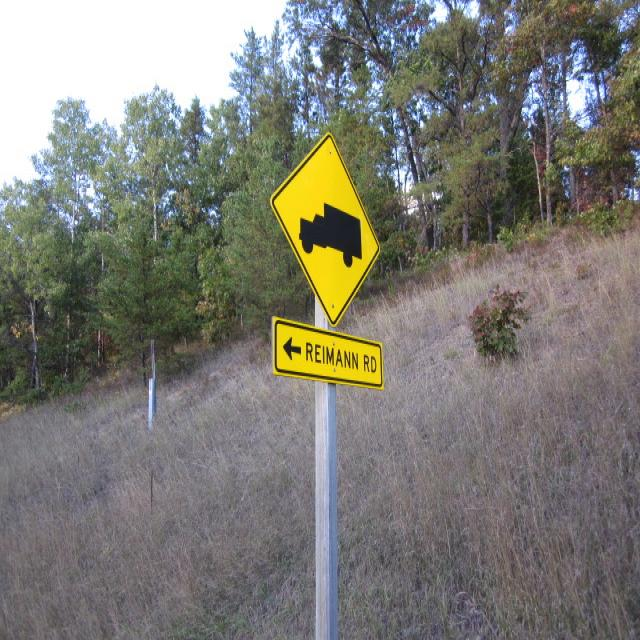warning: (262, 127, 388, 328), (272, 316, 388, 392)
